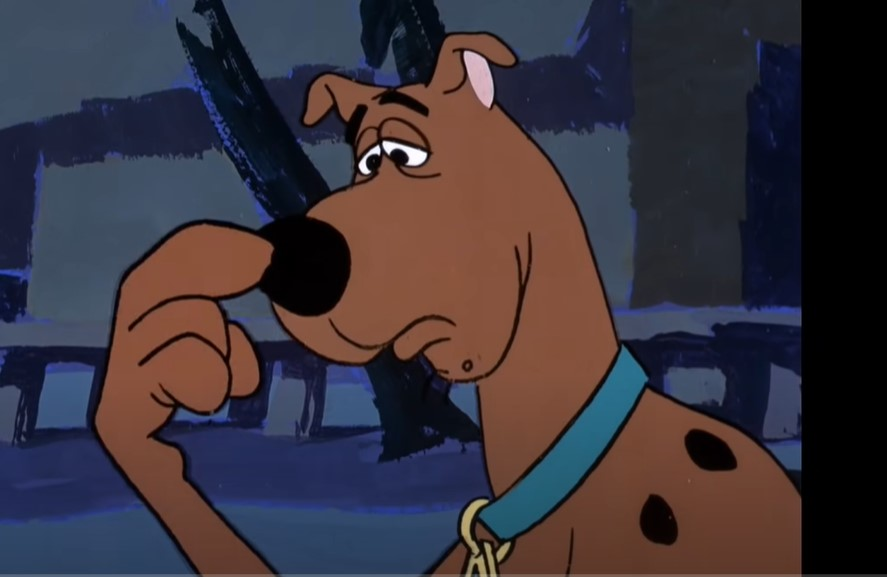scooby: (85, 28, 802, 577)
